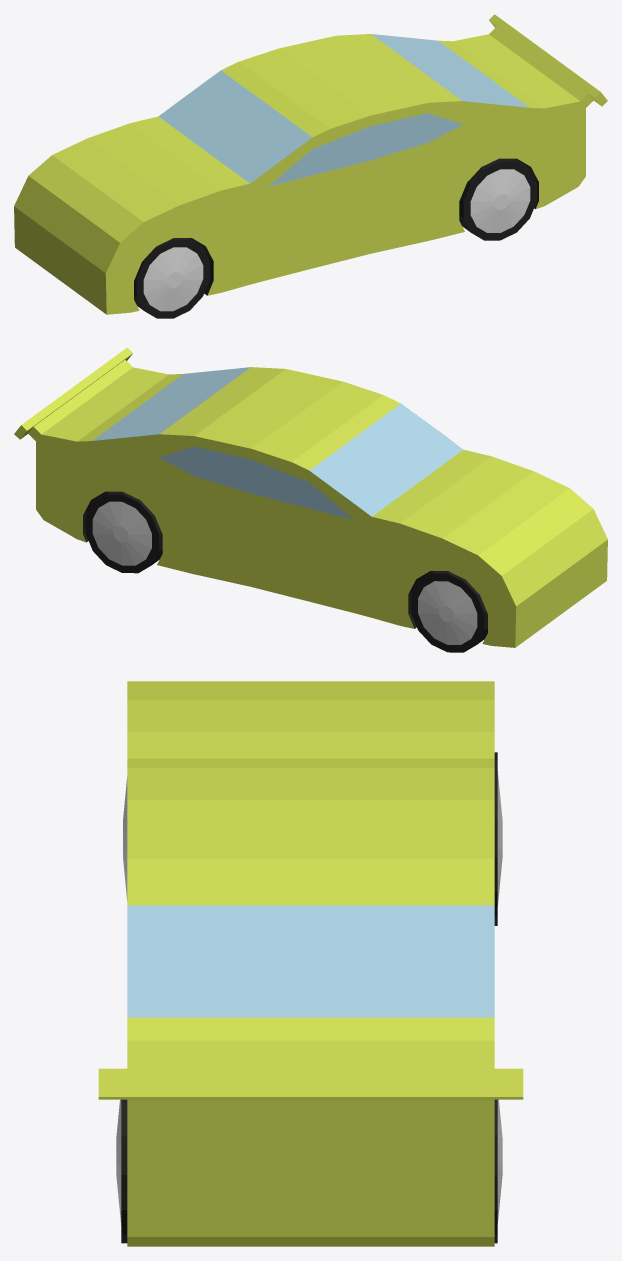
Rendered from bolid.fbx.
3 views of the same model, one above another, from view 1: azimuth 30°, elevation 25°; view 2: azimuth 150°, elevation 25°; view 3: azimuth 270°, elevation 25° (orthographic). The views are drawn at different scales.
Visible parts, largest first — view 1: bolid, wheel.003, wheel.002; view 2: bolid, wheel.001, wheel; view 3: bolid, wheel.003, wheel, wheel.001.
Boxes of the visible parts, <box> form: bolid: <box>14,14,607,314</box>; wheel.003: <box>459,158,537,240</box>; wheel.002: <box>134,238,210,318</box>; bolid: <box>14,347,607,647</box>; wheel.001: <box>85,491,162,573</box>; wheel: <box>411,571,487,652</box>; bolid: <box>98,681,523,1246</box>; wheel.003: <box>116,1099,127,1243</box>; wheel: <box>494,752,502,925</box>; wheel.001: <box>494,1099,502,1243</box>.
Bounding box in the file's own units: 515 × 154 × 191.
